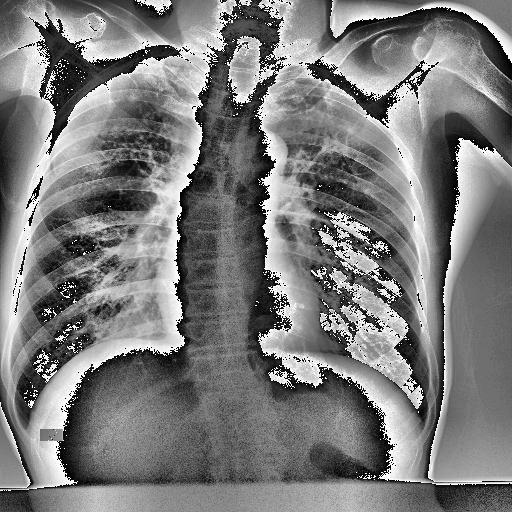0- Aortic enlargement: (228, 122, 288, 174)
13- Pulmonary fibrosis: (274, 82, 380, 208), (108, 60, 192, 178), (296, 96, 355, 176), (91, 102, 167, 164), (291, 132, 338, 182)
6- Infiltration: (89, 56, 195, 192), (280, 82, 358, 187)
